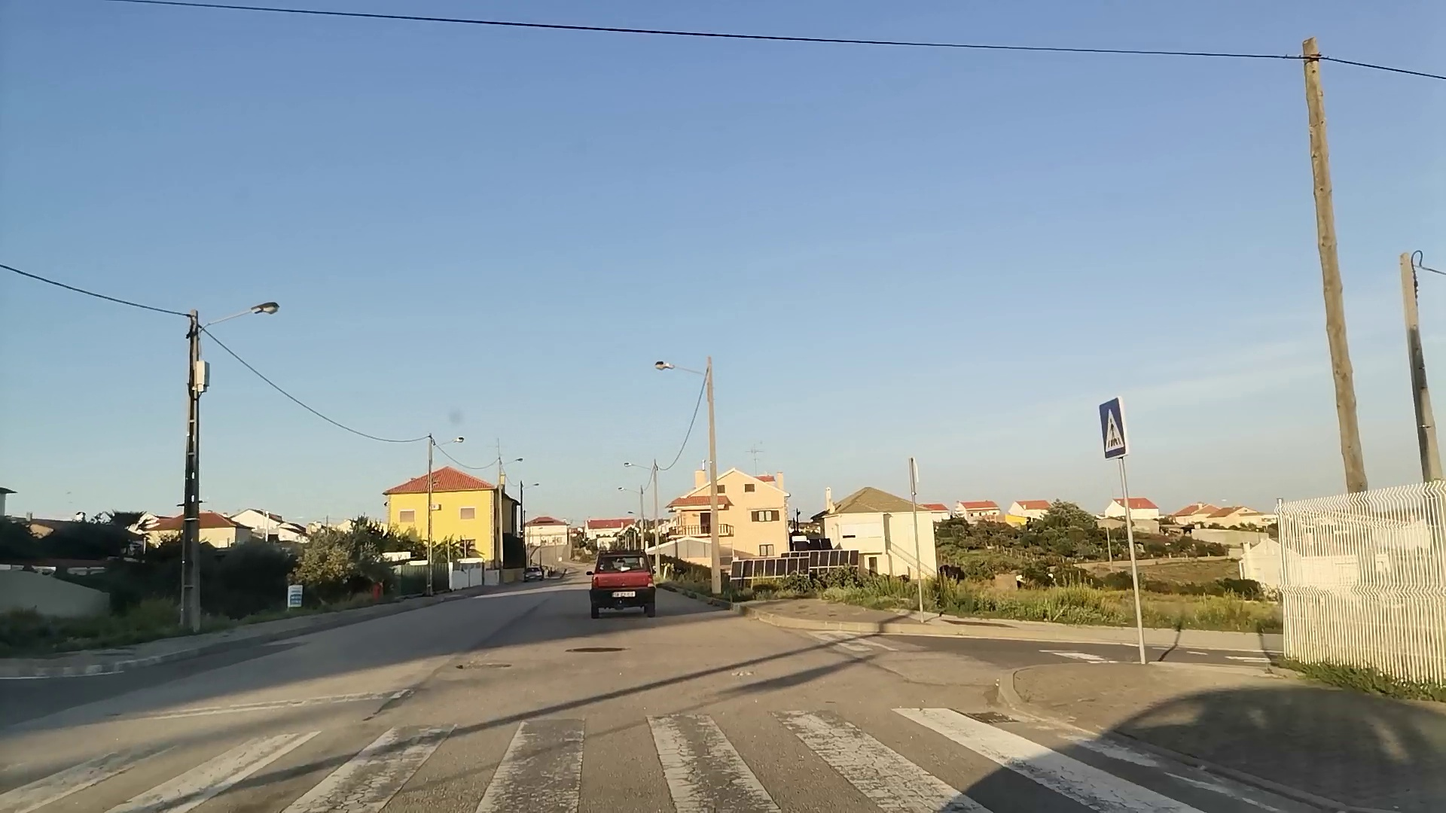Stairs: (0, 709, 1063, 813)
